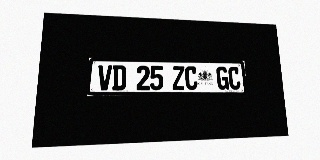2: (137, 65, 150, 90)
5: (150, 66, 163, 90)
C: (185, 66, 198, 90), (228, 67, 241, 90)
D: (112, 65, 126, 90)
G: (216, 67, 229, 90)
V: (97, 65, 112, 90)
Z: (172, 66, 185, 90)
